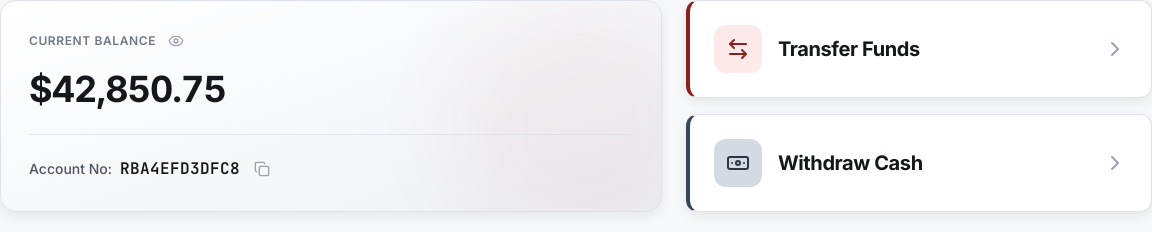
it: BalanceHeroSection › toggles balance visibility when eye button is clicked
The image size is (1152, 232).
Expected: the text "$42,850.75" is shown, [29,67,226,111]
Click the button titled "Hide Balance".
click(176, 41)  # box [164,29,188,53]
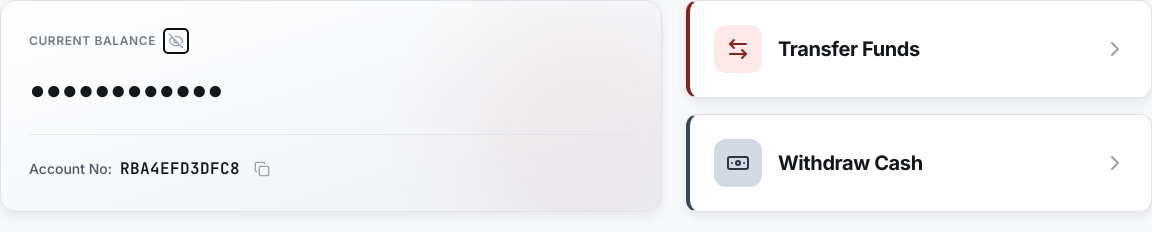
Result: the text "$42,850.75" is gone
Result: the text "••••••••••••" is shown at [29,67,223,111]
